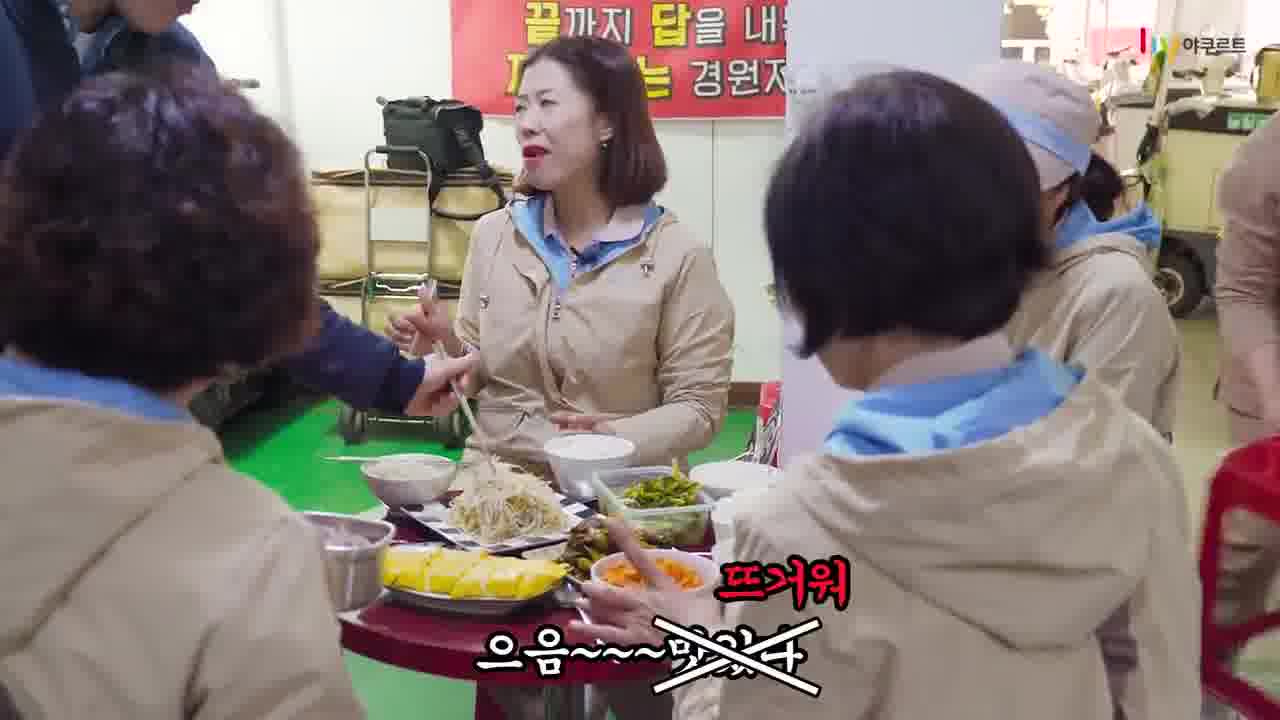Yakurut: (694, 136, 1245, 720), (1, 77, 426, 720), (399, 28, 754, 487), (1037, 2, 1280, 482)
